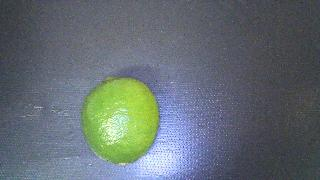EXPORTACION: (81, 77, 159, 165)
